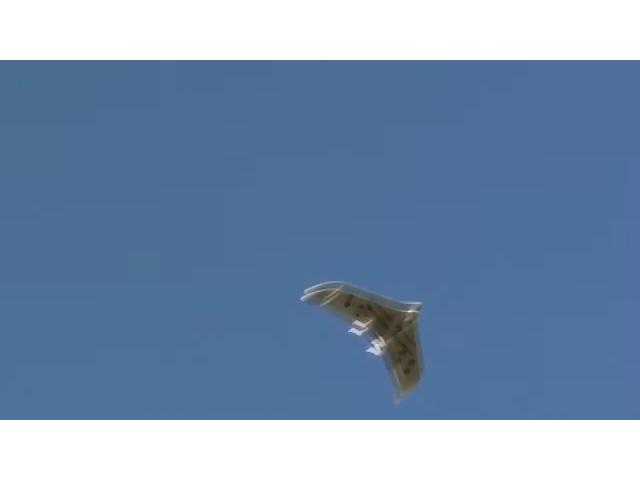Anti-Drone: (303, 286, 423, 402)
